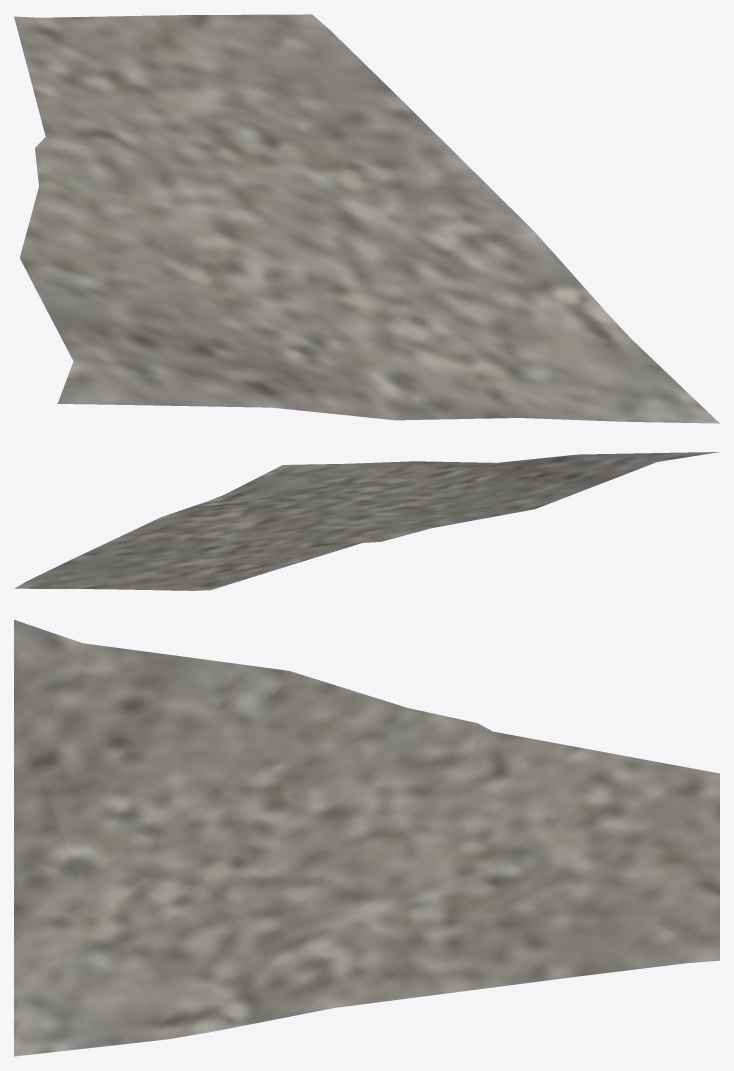
3 renders of one model, top to bottom at view 1: azimuth 30°, elevation 25°; view 2: azimuth 150°, elevation 25°; view 3: azimuth 270°, elevation 25°, orthographic. The views are drawn at different scales.
Bounding box in the file's own units: 0.7863 × 0.2054 × 0.8374.
2 materials, 2 textured.
